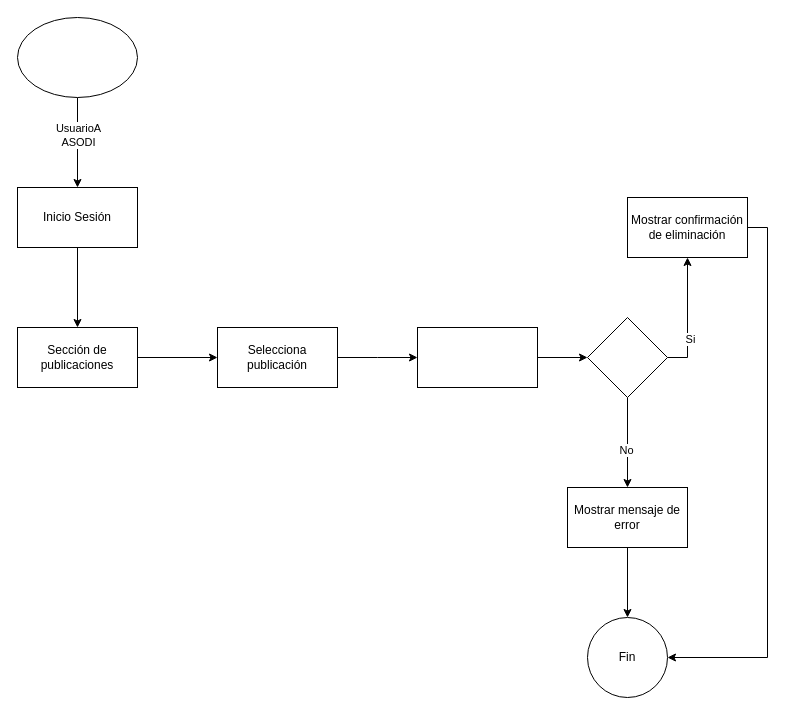
Image size: 793x715. Some labels were removed from this diagram. The shapes that lost their labels are listed below. From the top down, each one's centre as x and y in pixels, then its label:
At point (77, 57): "Inicio".
At point (477, 357): "Eliminar publicación".
At point (627, 357): "¿Eliminación Exitosa?".
